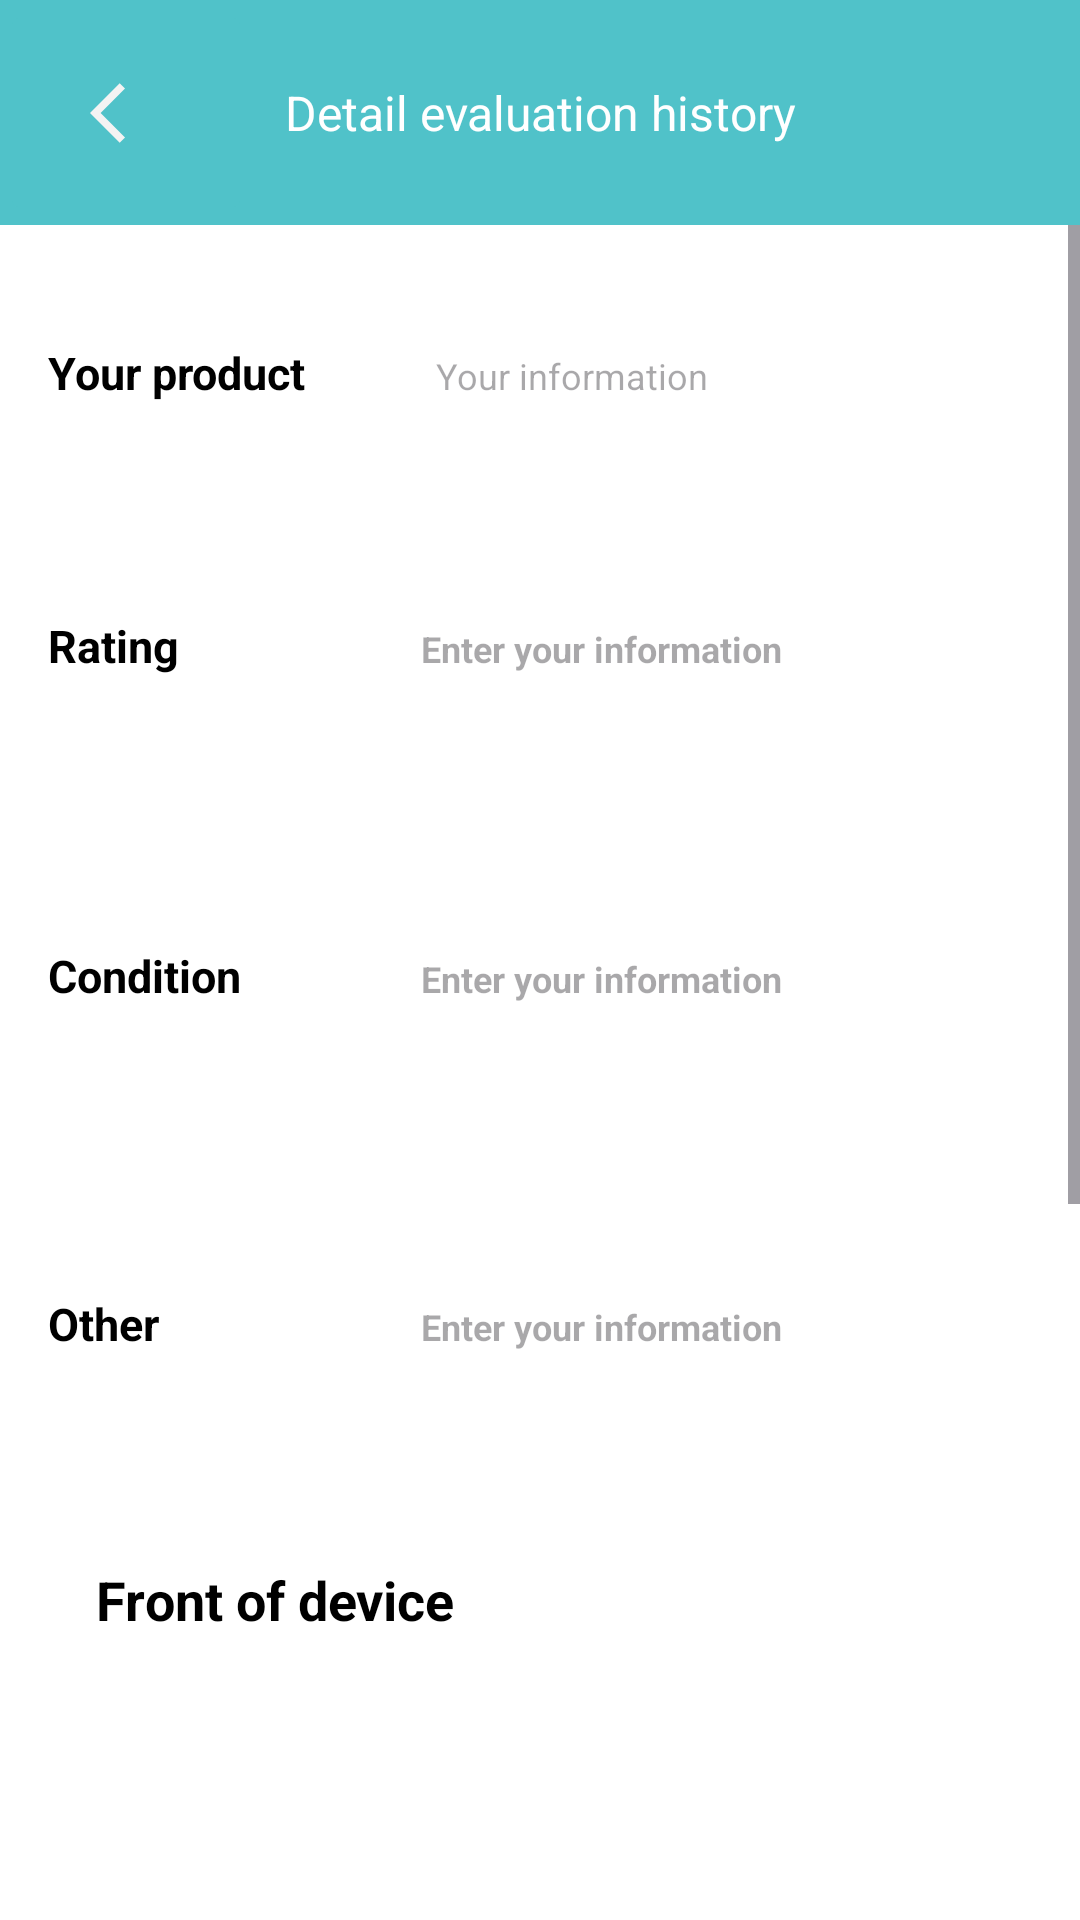

Icon click points for this 1080px x 1920px phone screenshot, format (x=x, y=y):
arrow left: (x=107, y=113)
